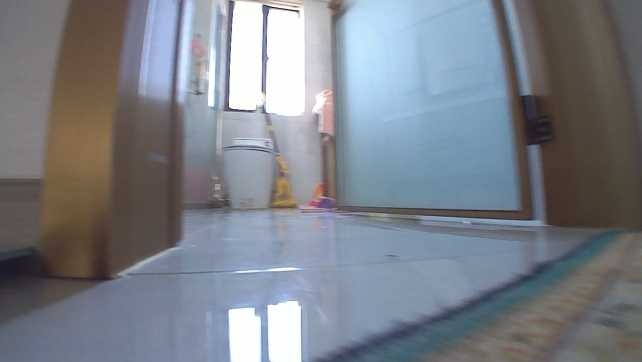blanket: (323, 226, 640, 360)
door_anno: (324, 0, 640, 225)
toilet: (219, 134, 278, 213)
